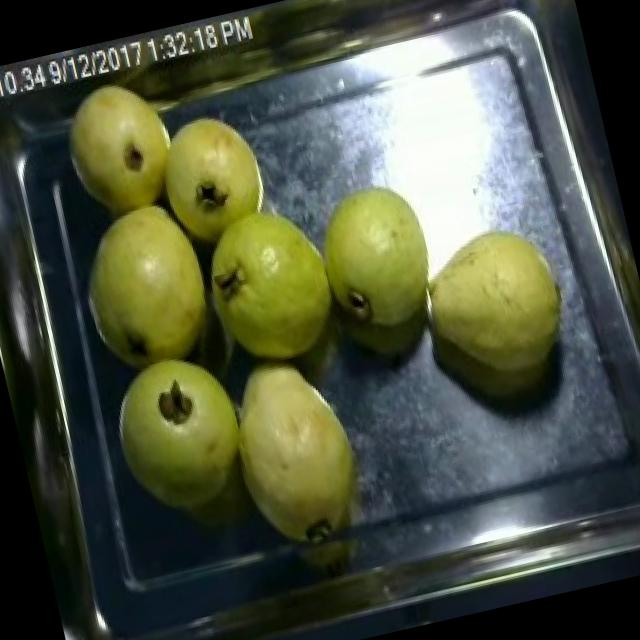Fruit: (392, 202, 597, 428), (200, 327, 388, 559), (55, 184, 225, 409), (88, 322, 262, 525), (188, 183, 349, 394), (126, 90, 292, 280), (306, 162, 461, 362), (45, 60, 199, 233)
